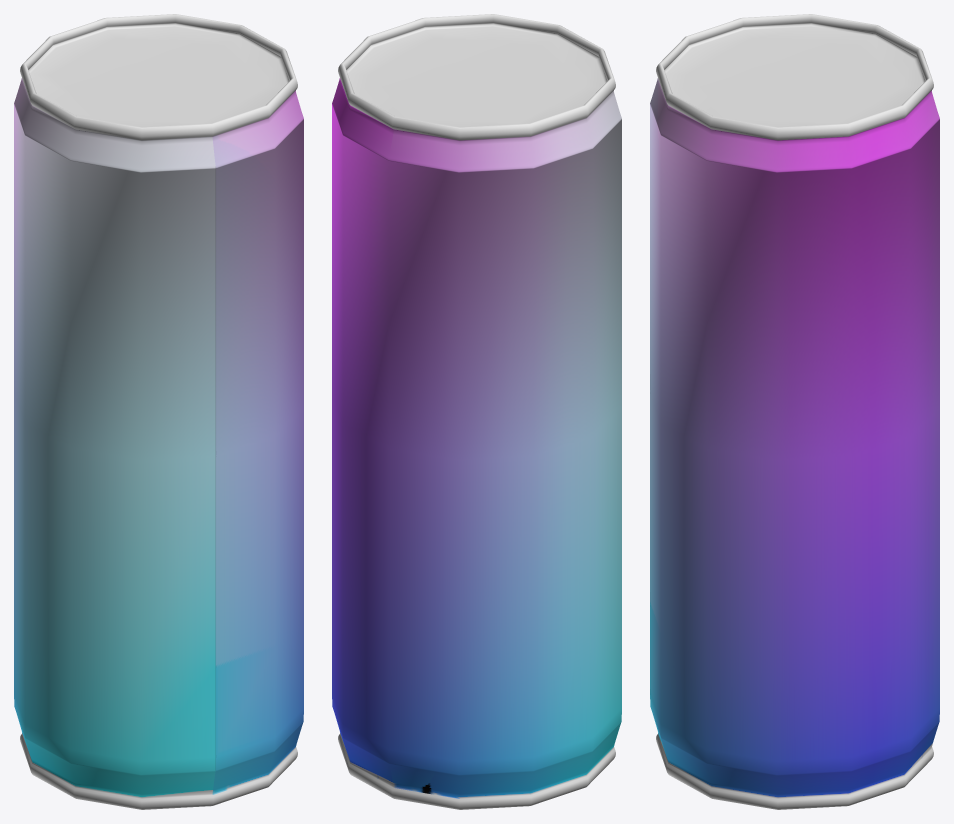
File: EnergyDrink2.fbx
3 renders of one model, left to right at view 1: azimuth 30°, elevation 25°; view 2: azimuth 150°, elevation 25°; view 3: azimuth 270°, elevation 25°, orthographic.
Parts seen in each view (by area): view 1: Can backup; view 2: Can backup; view 3: Can backup.
Boxes of the visible parts, bbox=[...] form: Can backup: bbox=[14, 14, 303, 809]; Can backup: bbox=[332, 14, 621, 809]; Can backup: bbox=[650, 14, 939, 809].
Size of the model in its own units: 7.07 by 18.46 by 7.1.
